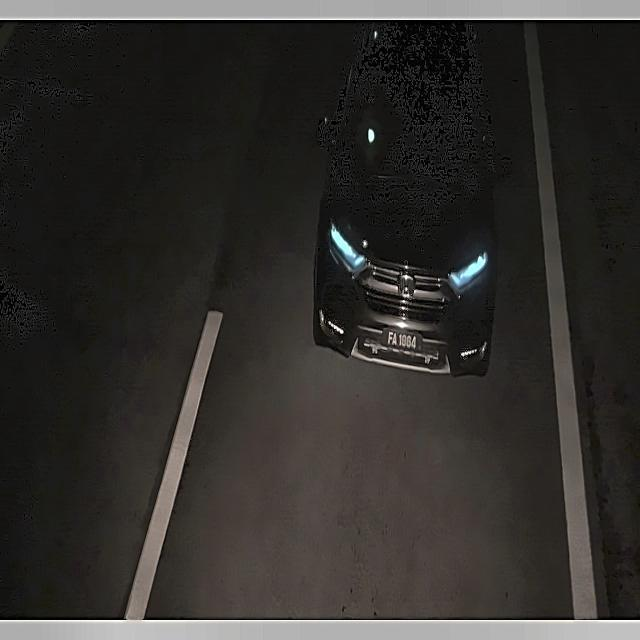car: (379, 326, 427, 359)
